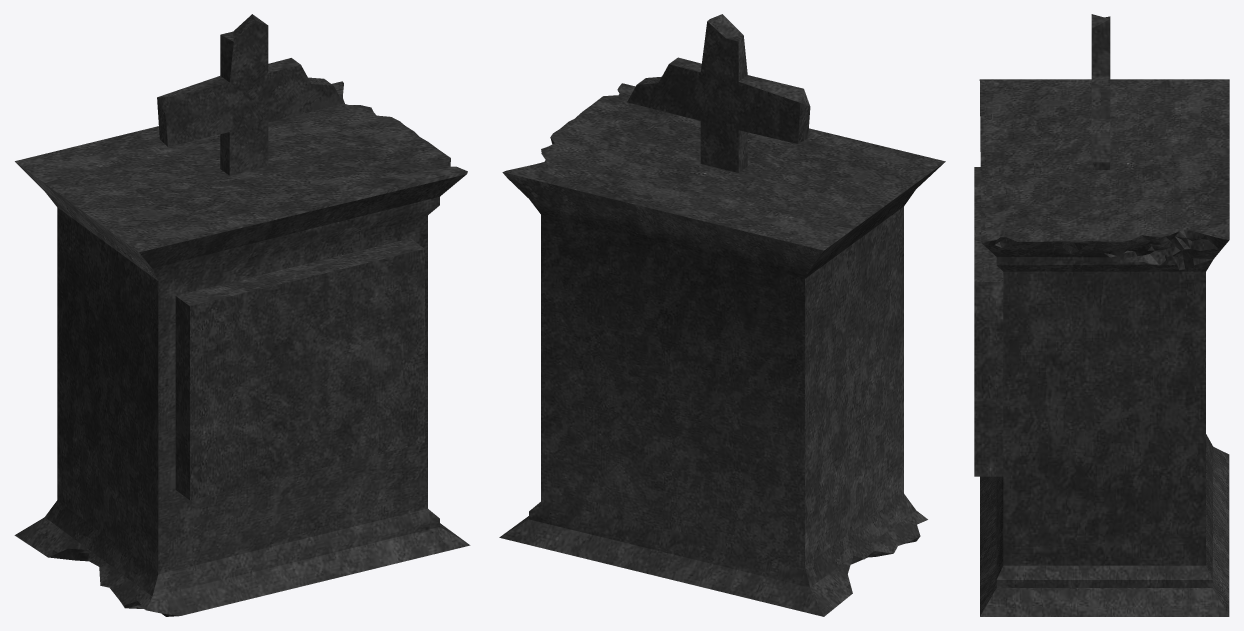
Rendered from grave2.fbx.
3 views of the same model, side by side, from view 1: azimuth 30°, elevation 25°; view 2: azimuth 150°, elevation 25°; view 3: azimuth 270°, elevation 25° (orthographic). The views are drawn at different scales.
Parts seen in each view (by area): view 1: Cube.007; view 2: Cube.007; view 3: Cube.007.
Boxes of the visible parts, x1=… form: Cube.007: x1=14, y1=14, x2=470, y2=616; Cube.007: x1=499, y1=14, x2=945, y2=616; Cube.007: x1=974, y1=14, x2=1229, y2=616.
Size of the model in its own units: 110 by 166 by 73.21.
